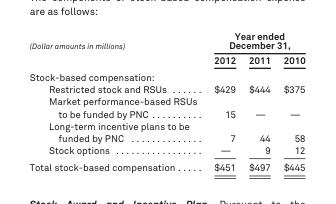table: (28, 29, 304, 172)
table column: (28, 29, 204, 172), (204, 29, 241, 172), (241, 29, 276, 172), (276, 29, 304, 172)
table column header: (28, 29, 304, 68)
table projected row header: (28, 68, 304, 83)
table row: (28, 95, 304, 119), (28, 119, 304, 143), (28, 29, 304, 52), (28, 52, 304, 68), (28, 68, 304, 83), (28, 143, 304, 158), (28, 158, 304, 172), (28, 83, 304, 95)
table spanning cell: (28, 29, 204, 68), (204, 29, 304, 52)
